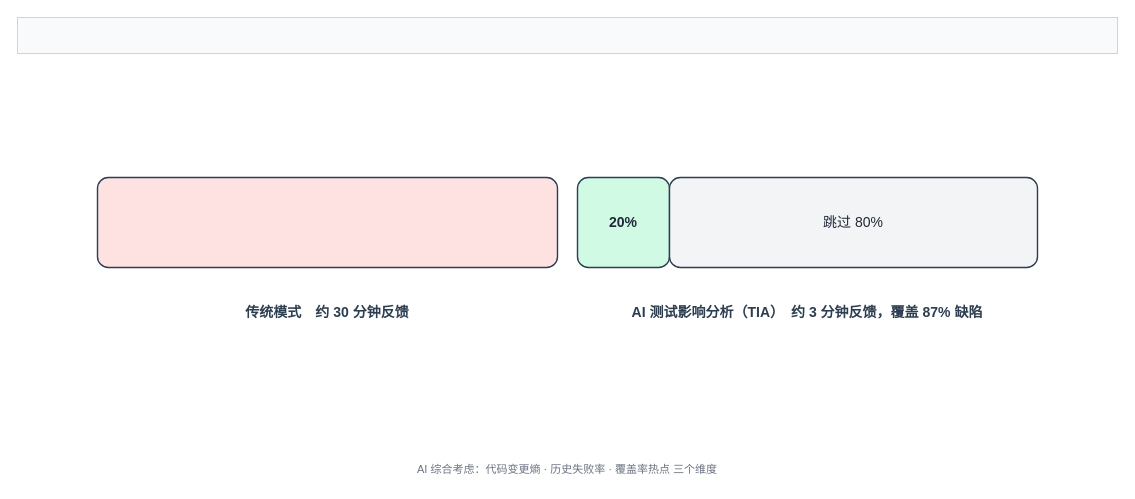
This 1135x499 diagram has some shape labels left out. Each missing label, with the centre of its shape:
100% 测试全跑: point (327, 222)
图 10-4 测试影响分析（TIA）：把 30 分钟反馈压到 3 分钟: point (567, 35)
